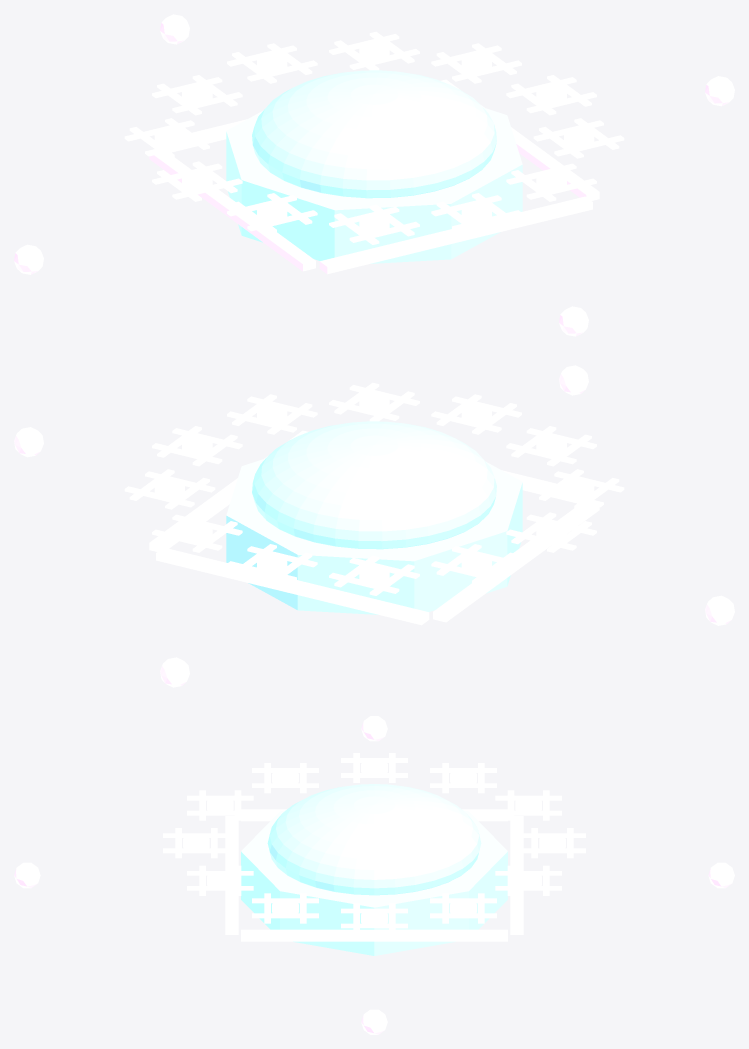
File: sci_fi_drone.glb
3 renders of one model, top to bottom at view 1: azimuth 30°, elevation 25°; view 2: azimuth 150°, elevation 25°; view 3: azimuth 270°, elevation 25°, orthographic. The views are drawn at different scales.
Parts seen in each view (by area): view 1: Drone_Body, Wing_3, Wing_2, Wing_0, Rotor_08, Rotor_04, Rotor_06, Rotor_09, Rotor_11, Rotor_00, Rotor_01, Rotor_05 (+5 smaller); view 2: Drone_Body, Wing_1, Wing_2, Wing_0, Rotor_04, Rotor_03, Rotor_06, Rotor_08, Rotor_01, Rotor_00, Rotor_11, Rotor_07 (+5 smaller); view 3: Drone_Body, Wing_0, Wing_1, Wing_3, Wing_2, Rotor_04, Rotor_08, Rotor_00, Rotor_01, Rotor_11, Rotor_03, Rotor_09 (+5 smaller).
Part boxes in pixels (bbox=[...]): Drone_Body: bbox=[226, 70, 522, 263]; Wing_3: bbox=[319, 196, 592, 336]; Wing_2: bbox=[14, 153, 315, 274]; Wing_0: bbox=[440, 76, 734, 200]; Rotor_08: bbox=[329, 204, 419, 244]; Rotor_04: bbox=[152, 75, 242, 115]; Rotor_06: bbox=[152, 161, 242, 201]; Rotor_09: bbox=[431, 193, 521, 233]; Rotor_11: bbox=[533, 118, 624, 158]; Rotor_00: bbox=[506, 75, 596, 115]; Rotor_01: bbox=[431, 43, 521, 83]; Rotor_05: bbox=[124, 118, 215, 158]; Drone_Body: bbox=[226, 421, 522, 614]; Wing_1: bbox=[156, 547, 429, 687]; Wing_2: bbox=[433, 504, 734, 625]; Wing_0: bbox=[14, 427, 308, 551]; Rotor_04: bbox=[329, 555, 419, 595]; Rotor_03: bbox=[227, 544, 317, 584]; Rotor_06: bbox=[506, 512, 596, 552]; Rotor_08: bbox=[506, 426, 596, 466]; Rotor_01: bbox=[124, 469, 215, 509]; Rotor_00: bbox=[152, 426, 242, 466]; Rotor_11: bbox=[227, 394, 317, 434]; Rotor_07: bbox=[533, 469, 624, 509]; Drone_Body: bbox=[241, 784, 507, 955]; Wing_0: bbox=[241, 929, 507, 1034]; Wing_1: bbox=[510, 816, 734, 934]; Wing_3: bbox=[14, 816, 238, 934]; Wing_2: bbox=[241, 716, 507, 821]; Rotor_04: bbox=[495, 790, 561, 820]; Rotor_08: bbox=[187, 790, 253, 820]; Rotor_00: bbox=[341, 903, 407, 933]; Rotor_01: bbox=[430, 893, 496, 923]; Rotor_11: bbox=[252, 893, 318, 923]; Rotor_03: bbox=[519, 828, 585, 858]; Rotor_09: bbox=[163, 828, 229, 858].
Bounding box in the file's own units: 8.09 × 1.18 × 8.1.
